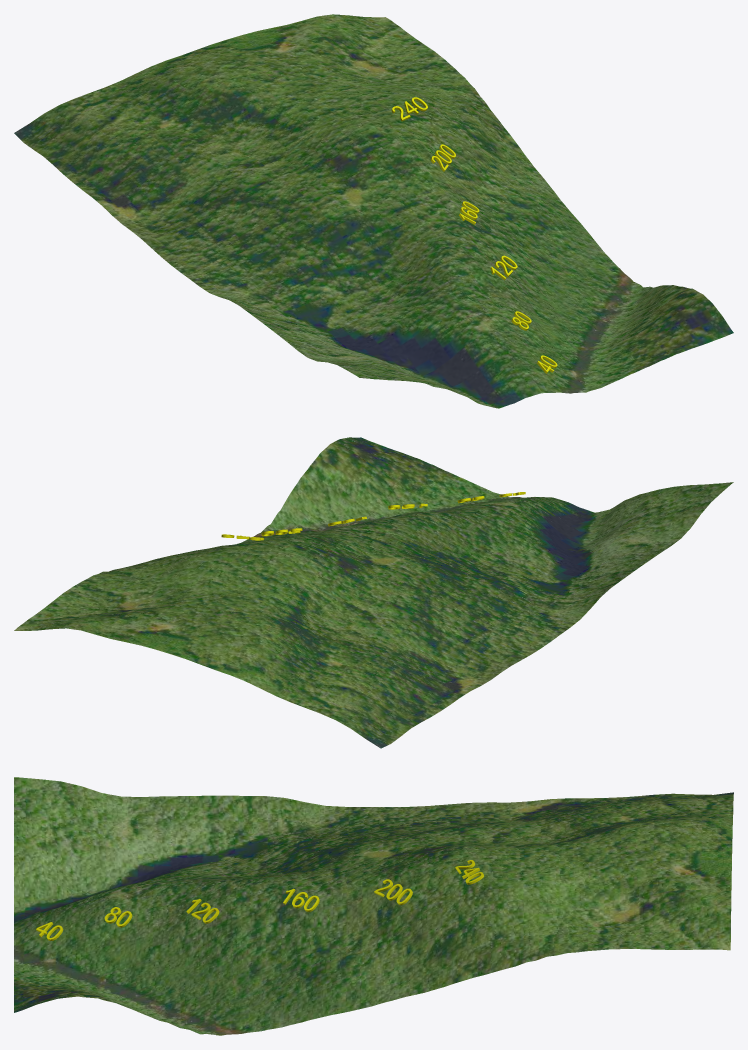
The model's file is SaoJoseAusentes1a.glb.
3 views of the same model, one above another, from view 1: azimuth 30°, elevation 25°; view 2: azimuth 150°, elevation 25°; view 3: azimuth 270°, elevation 25° (orthographic). The views are drawn at different scales.
Visible parts, largest first — view 1: root, object 2; view 2: root, object 2; view 3: root, object 2.
Part boxes in pixels (x1,y1,x2,y2): root: [14, 14, 733, 408]; object 2: [391, 97, 557, 373]; root: [14, 437, 733, 748]; object 2: [221, 492, 525, 540]; root: [14, 777, 733, 1035]; object 2: [36, 860, 483, 940].
Bounding box in the file's own units: 917 × 271 × 1485.
Materials: 2 (1 with a texture image).
